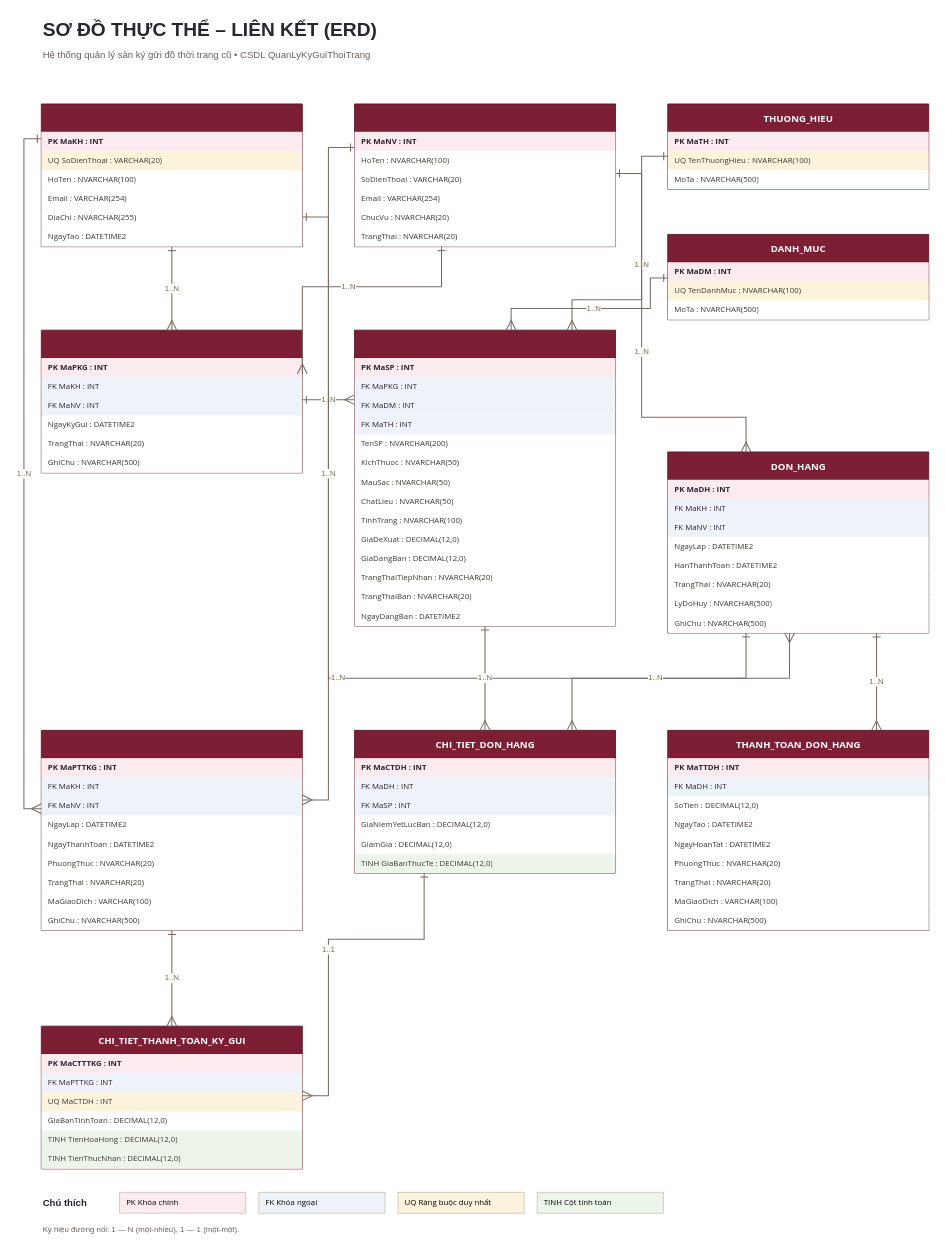
The diagram is 945 pixels wide and 1253 high, and some of its shapes have lost their labels. Each missing label, with the box of its shape:
KHACH_HANG: (40, 103, 302, 247)
NHAN_VIEN: (354, 103, 616, 247)
PHIEU_KY_GUI: (40, 329, 302, 473)
PHIEU_THANH_TOAN_KY_GUI: (40, 729, 302, 930)
SAN_PHAM: (354, 329, 616, 626)
